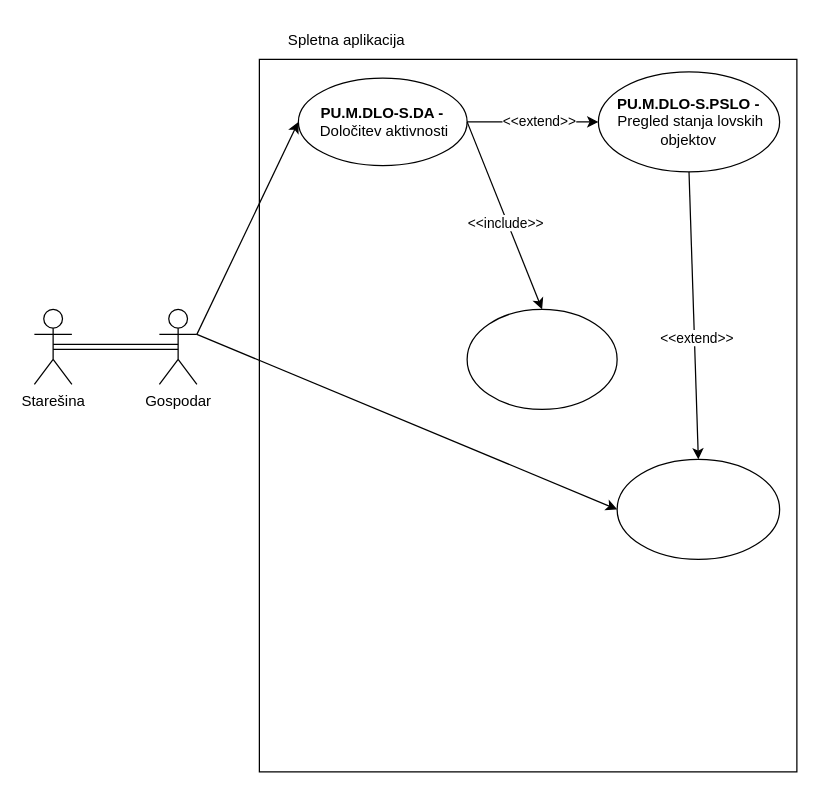
The diagram is 819 pixels wide and 794 high, and some of its shapes have lost their labels. The shapes that lost their labels are listed below. From the top down, each one's centre as x and y in pixels, then its label:
the point at 541,358: PU.TM.OBV.PO - Pošiljanje obvestil
the point at 698,508: PU.M.DLO-S.PLO - Pregled seznamov lovskih objektov
